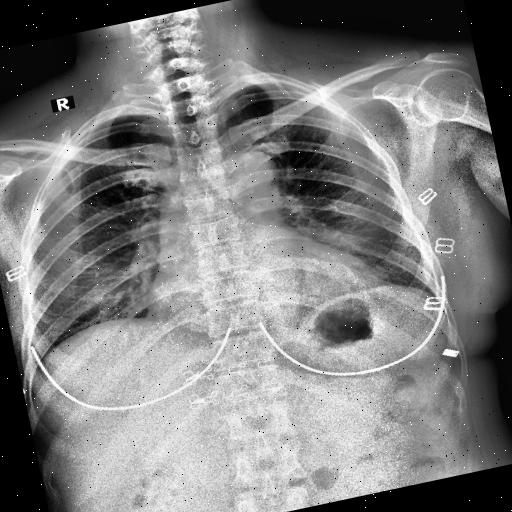0- Aortic enlargement: (203, 141, 287, 233), (210, 146, 286, 221), (208, 146, 282, 206)
3- Cardiomegaly: (134, 244, 382, 355), (141, 256, 382, 352)
